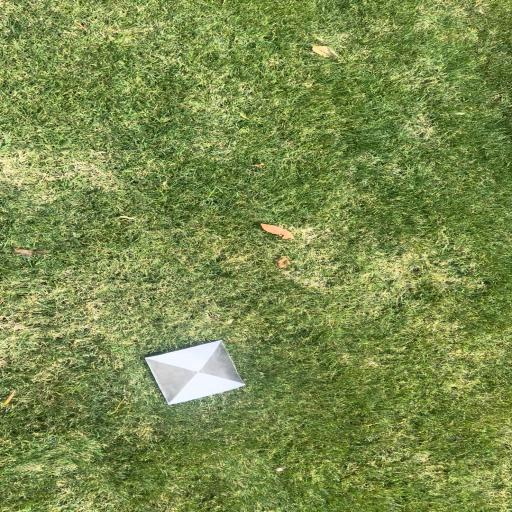target: (146, 340, 246, 404)
